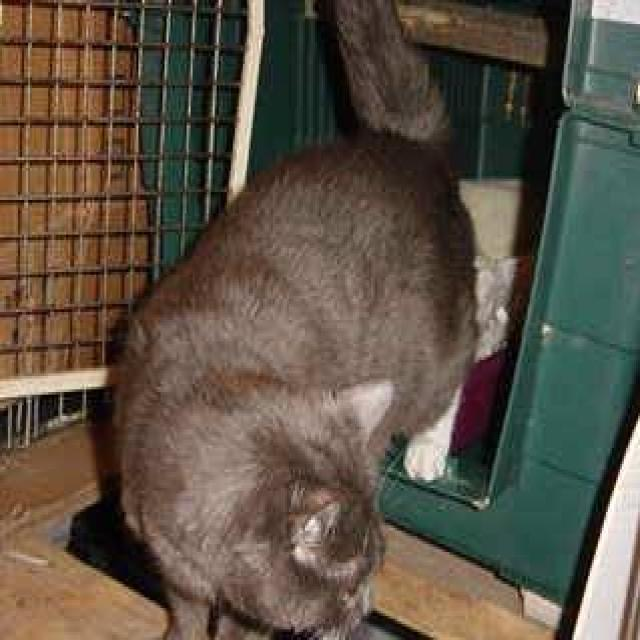cat: (106, 0, 481, 637)
